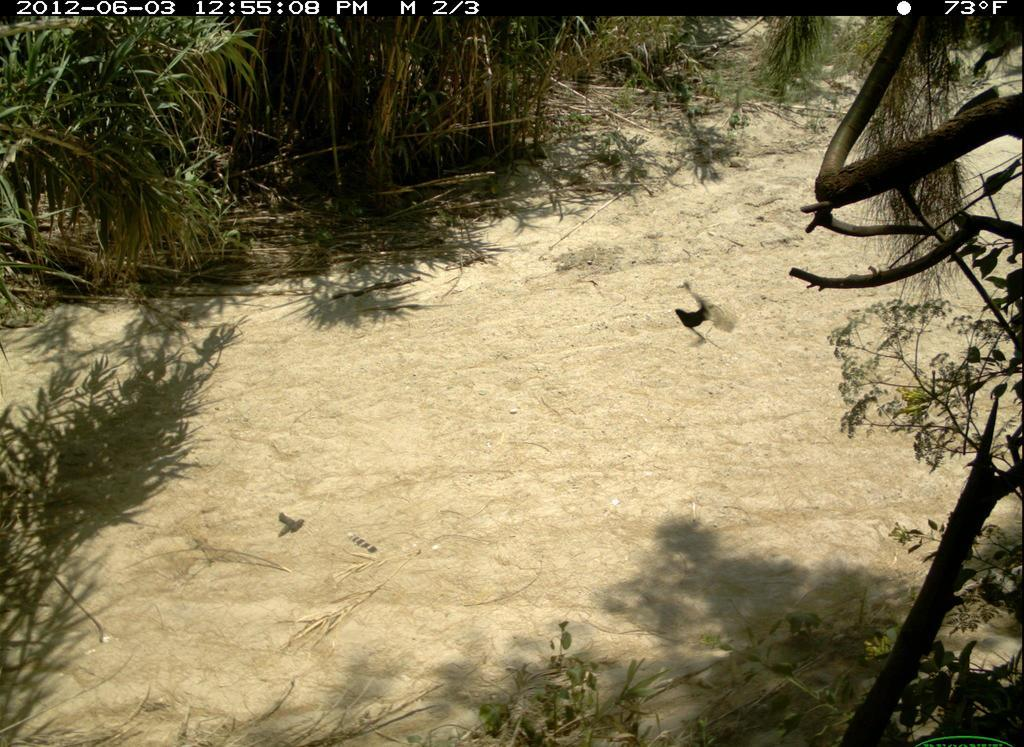bird: (670, 277, 734, 352)
